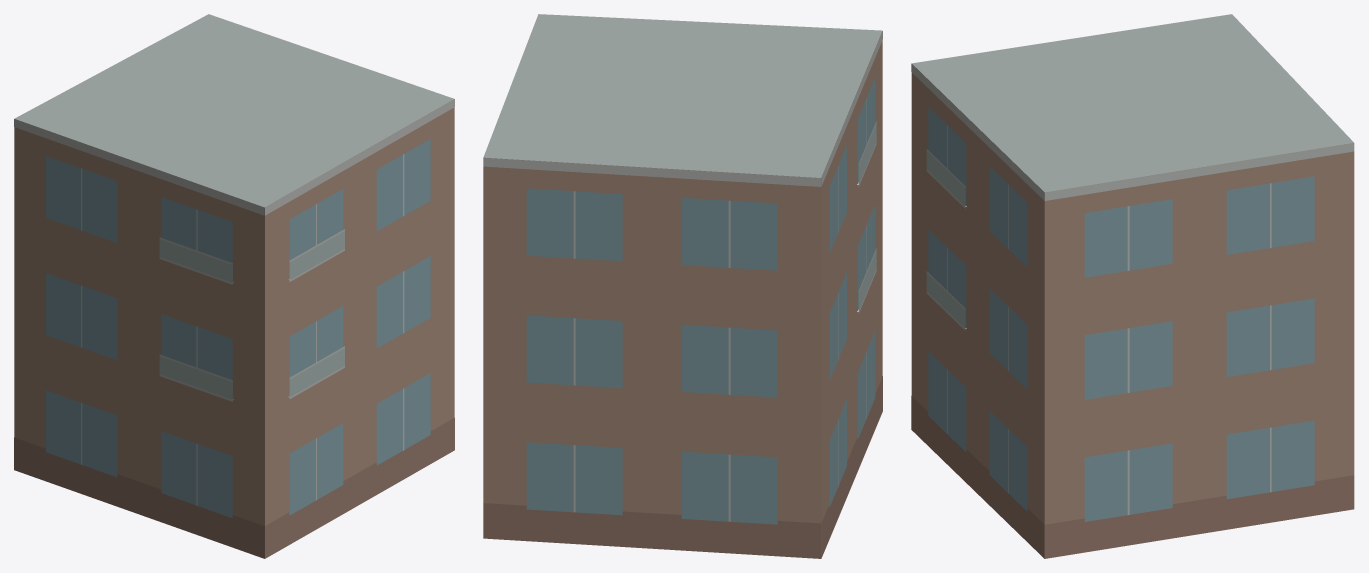
The model's file is survey-upis-32866023.glb.
The picture shows the model from 3 angles, left to right: view 1: azimuth 30°, elevation 25°; view 2: azimuth 150°, elevation 25°; view 3: azimuth 270°, elevation 25°; orthographic projection. The views are drawn at different scales.
Parts seen in each view (by area): view 1: survey-upis-32866023.tmp; view 2: survey-upis-32866023.tmp; view 3: survey-upis-32866023.tmp.
Part boxes in pixels (x1,y1,x2,y2): survey-upis-32866023.tmp: [14, 14, 454, 558]; survey-upis-32866023.tmp: [483, 14, 882, 558]; survey-upis-32866023.tmp: [911, 14, 1354, 558].
Bounding box in the file's own units: 10.88 × 10.4 × 11.4.
